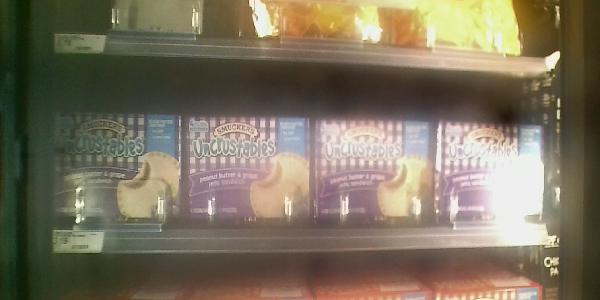icecream: (180, 115, 312, 226), (56, 116, 177, 225), (315, 118, 438, 225), (438, 118, 544, 221)
